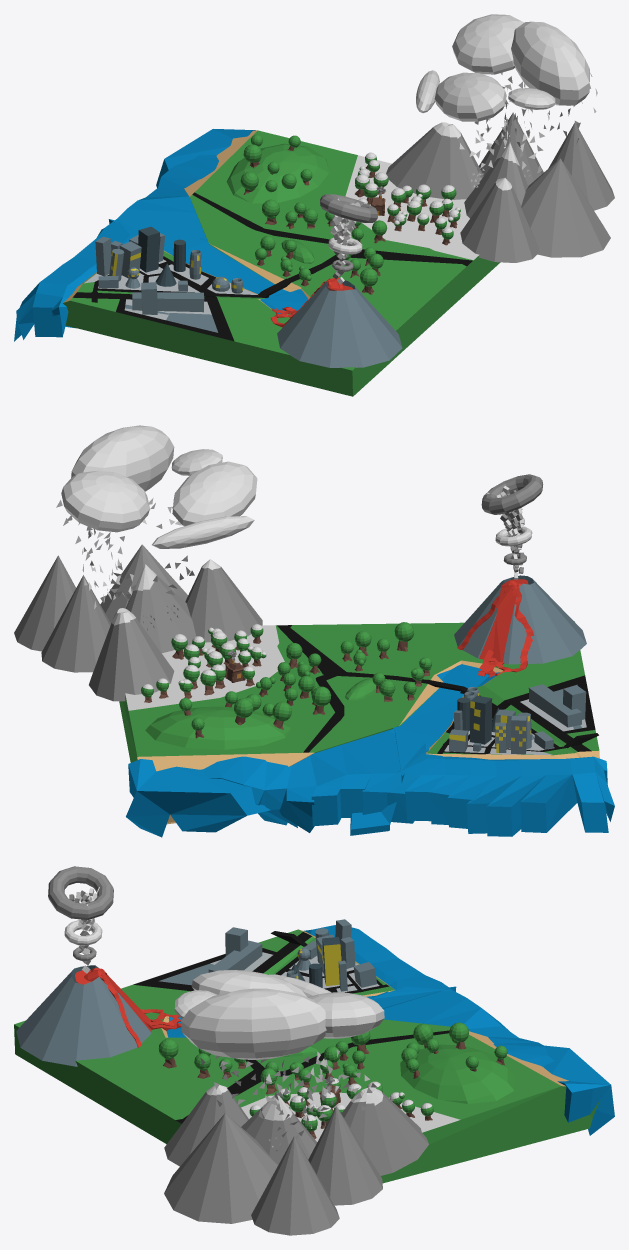
File: volcano.glb
The picture shows the model from 3 angles, top to bottom: view 1: azimuth 30°, elevation 25°; view 2: azimuth 150°, elevation 25°; view 3: azimuth 270°, elevation 25°; orthographic projection. The views are drawn at different scales.
Parts seen in each view (by area): view 1: node_MeshObject205438144-PolyPaper20, node_MeshObject2012235584-PolyPaper21, node_MeshObject702392448-PolyPaper10, node_MeshObject724158208-PolyPaper10, node_MeshObject-1516663040-PolyPaper8, node_MeshObject-43602560-PolyPaper21, node_MeshObject1885039360-PolyPaper10, node_MeshObject1677725504-PolyPaper10; view 2: node_MeshObject205438144-PolyPaper20, node_MeshObject724158208-PolyPaper10, node_MeshObject2012235584-PolyPaper21, node_MeshObject702392448-PolyPaper10, node_MeshObject-1516663040-PolyPaper8, node_MeshObject-43602560-PolyPaper21, node_MeshObject1885039360-PolyPaper10, node_MeshObject1677725504-PolyPaper10; view 3: node_MeshObject205438144-PolyPaper20, node_MeshObject2012235584-PolyPaper21, node_MeshObject702392448-PolyPaper10, node_MeshObject724158208-PolyPaper10, node_MeshObject-1516663040-PolyPaper8, node_MeshObject-43602560-PolyPaper21, node_MeshObject1677725504-PolyPaper10, node_MeshObject1885039360-PolyPaper10.
Boxes of the visible parts, <box> form: node_MeshObject205438144-PolyPaper20: <box>63,130,500,396</box>; node_MeshObject2012235584-PolyPaper21: <box>355,14,614,262</box>; node_MeshObject702392448-PolyPaper10: <box>98,70,439,367</box>; node_MeshObject724158208-PolyPaper10: <box>14,129,312,341</box>; node_MeshObject-1516663040-PolyPaper8: <box>91,199,429,314</box>; node_MeshObject-43602560-PolyPaper21: <box>358,72,530,231</box>; node_MeshObject1885039360-PolyPaper10: <box>95,171,453,286</box>; node_MeshObject1677725504-PolyPaper10: <box>251,134,450,276</box>; node_MeshObject205438144-PolyPaper20: <box>119,474,599,835</box>; node_MeshObject724158208-PolyPaper10: <box>126,677,614,837</box>; node_MeshObject2012235584-PolyPaper21: <box>14,425,262,701</box>; node_MeshObject702392448-PolyPaper10: <box>152,516,586,749</box>; node_MeshObject-1516663040-PolyPaper8: <box>223,486,598,752</box>; node_MeshObject-43602560-PolyPaper21: <box>126,461,266,702</box>; node_MeshObject1885039360-PolyPaper10: <box>210,624,526,754</box>; node_MeshObject1677725504-PolyPaper10: <box>191,631,389,738</box>; node_MeshObject205438144-PolyPaper20: <box>14,866,600,1183</box>; node_MeshObject2012235584-PolyPaper21: <box>164,988,433,1235</box>; node_MeshObject702392448-PolyPaper10: <box>16,941,478,1116</box>; node_MeshObject724158208-PolyPaper10: <box>304,925,614,1135</box>; node_MeshObject-1516663040-PolyPaper8: <box>64,887,376,1108</box>; node_MeshObject-43602560-PolyPaper21: <box>191,970,432,1150</box>; node_MeshObject1677725504-PolyPaper10: <box>194,1031,507,1118</box>; node_MeshObject1885039360-PolyPaper10: <box>276,919,433,1108</box>.
Size of the model in its own units: 2.15 by 0.8202 by 1.79.
